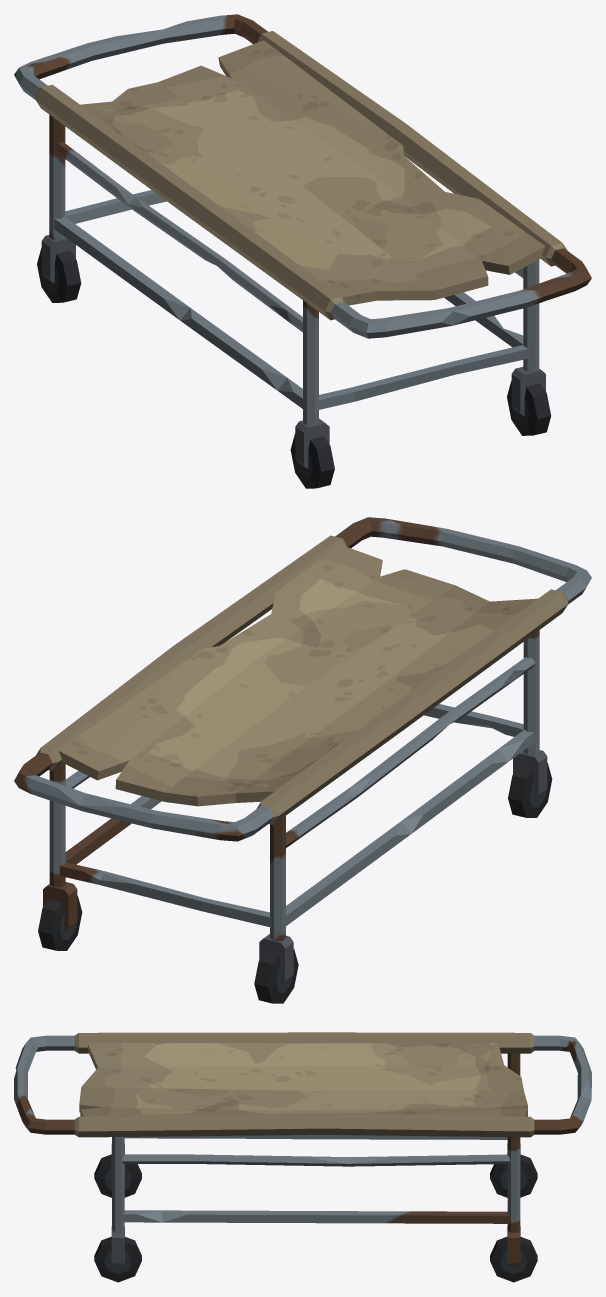
The model's file is SM_Prop_Gurney_Ambulance_01.fbx.
The picture shows the model from 3 angles, top to bottom: view 1: azimuth 30°, elevation 25°; view 2: azimuth 150°, elevation 25°; view 3: azimuth 270°, elevation 25°; orthographic projection. The views are drawn at different scales.
Parts seen in each view (by area): view 1: SM_Prop_Gurney_Ambulance_01; view 2: SM_Prop_Gurney_Ambulance_01; view 3: SM_Prop_Gurney_Ambulance_01.
Part boxes in pixels (x1,y1,x2,y2): SM_Prop_Gurney_Ambulance_01: (14,14,591,488); SM_Prop_Gurney_Ambulance_01: (14,517,591,1003); SM_Prop_Gurney_Ambulance_01: (14,1032,591,1282).
Size of the model in its own units: 92.86 by 76.97 by 244.
